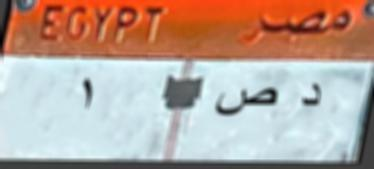1: (79, 74, 100, 120)
daal: (297, 77, 324, 120)
saad: (213, 83, 280, 128)
